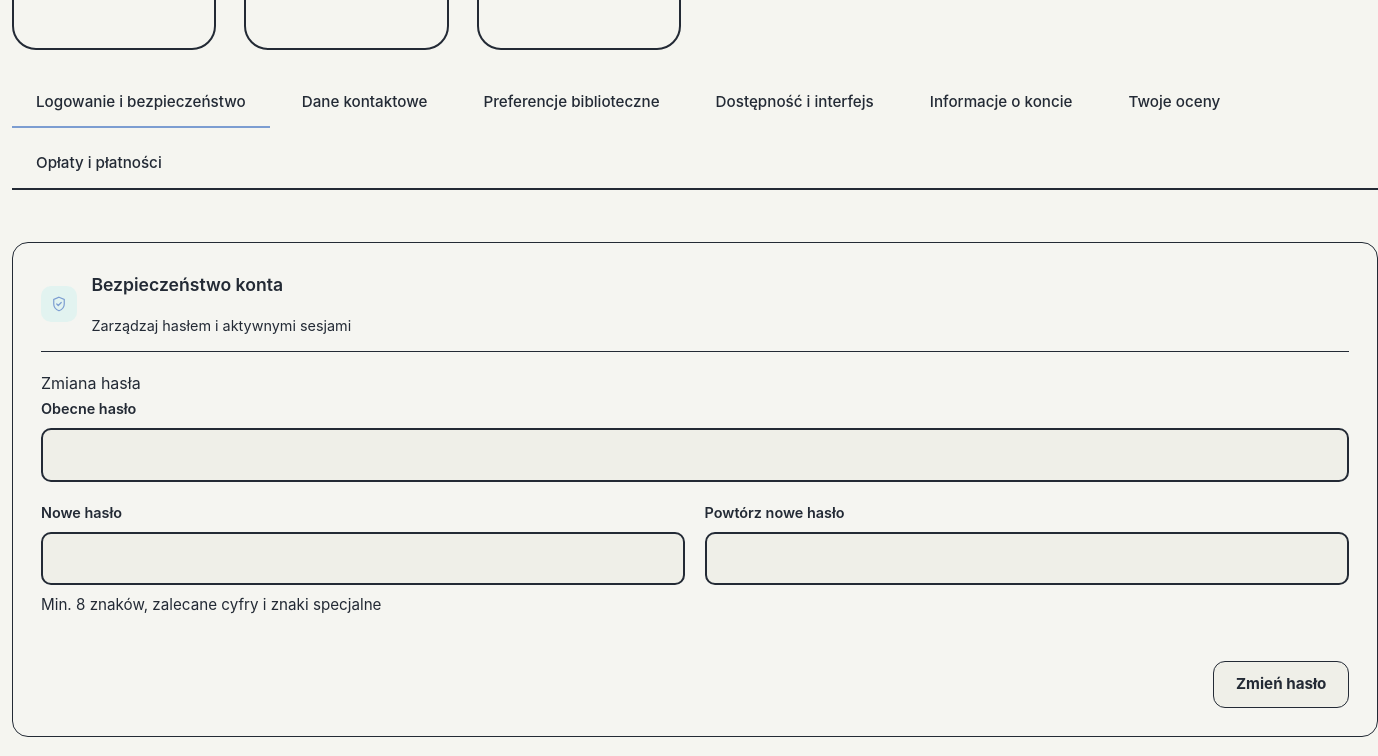
it: Profile page › shows password mismatch error
(page scrolled)
Type "oldpassword" into the password field labelled "Obecne hasło" at (695, 455), box 41,428 -> 1349,482
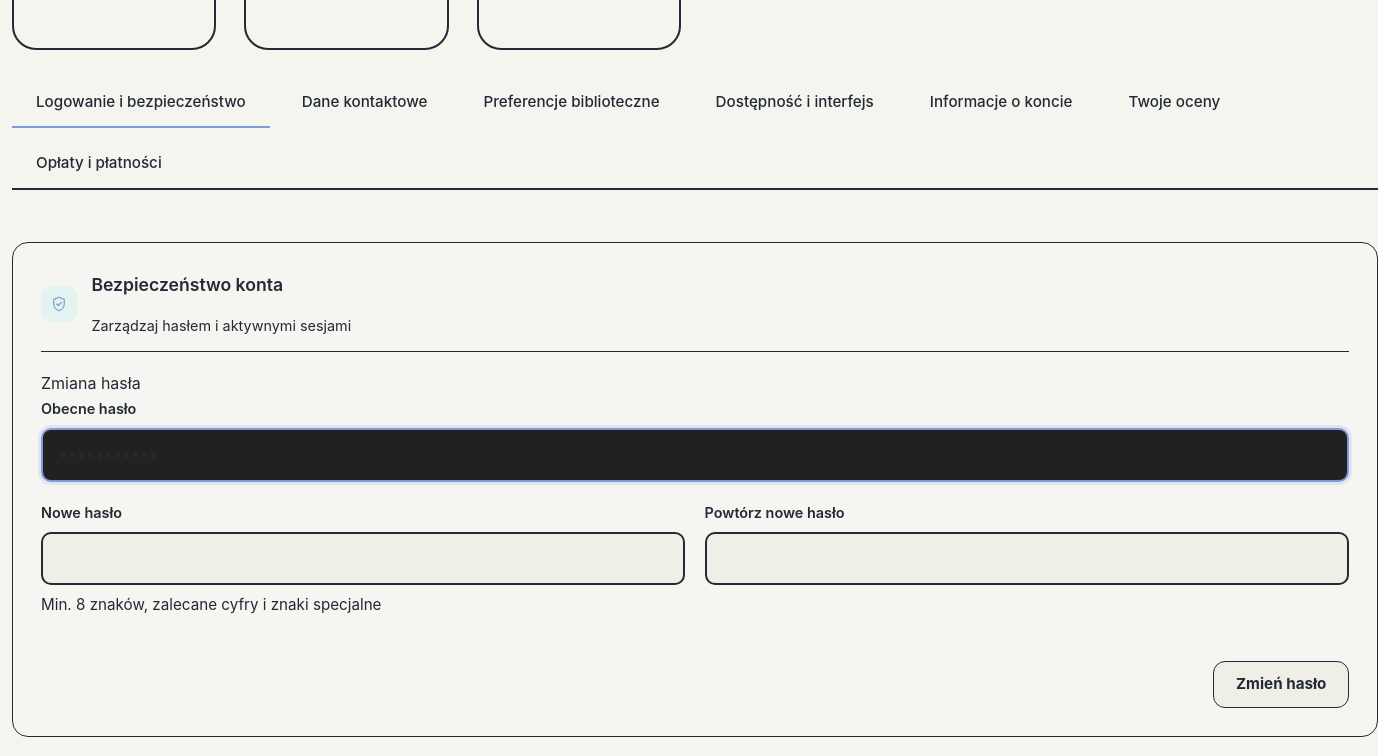
Type "password123" into the password field labelled "Nowe hasło" at (363, 559), box 41,532 -> 685,586
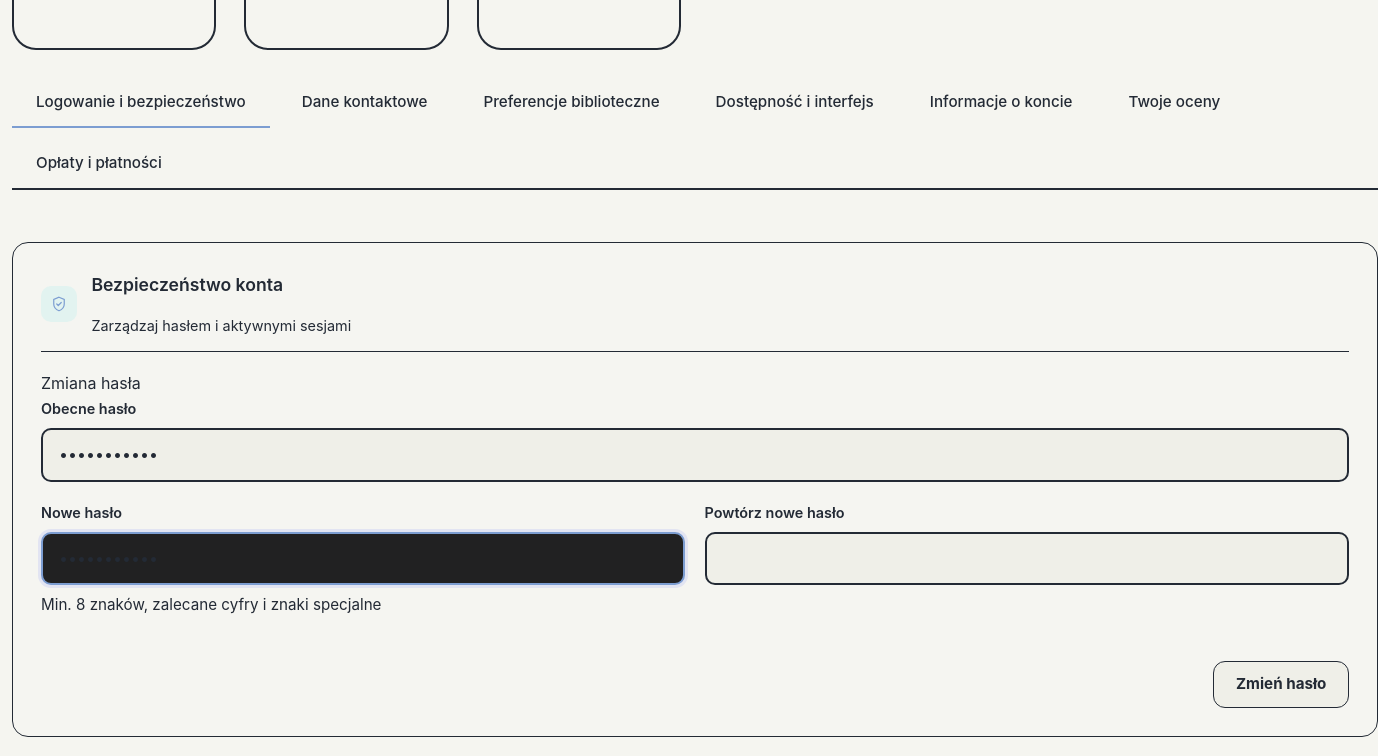
Type "password124" into the password field labelled "Powtórz nowe hasło" at (1027, 559), box 705,532 -> 1349,586
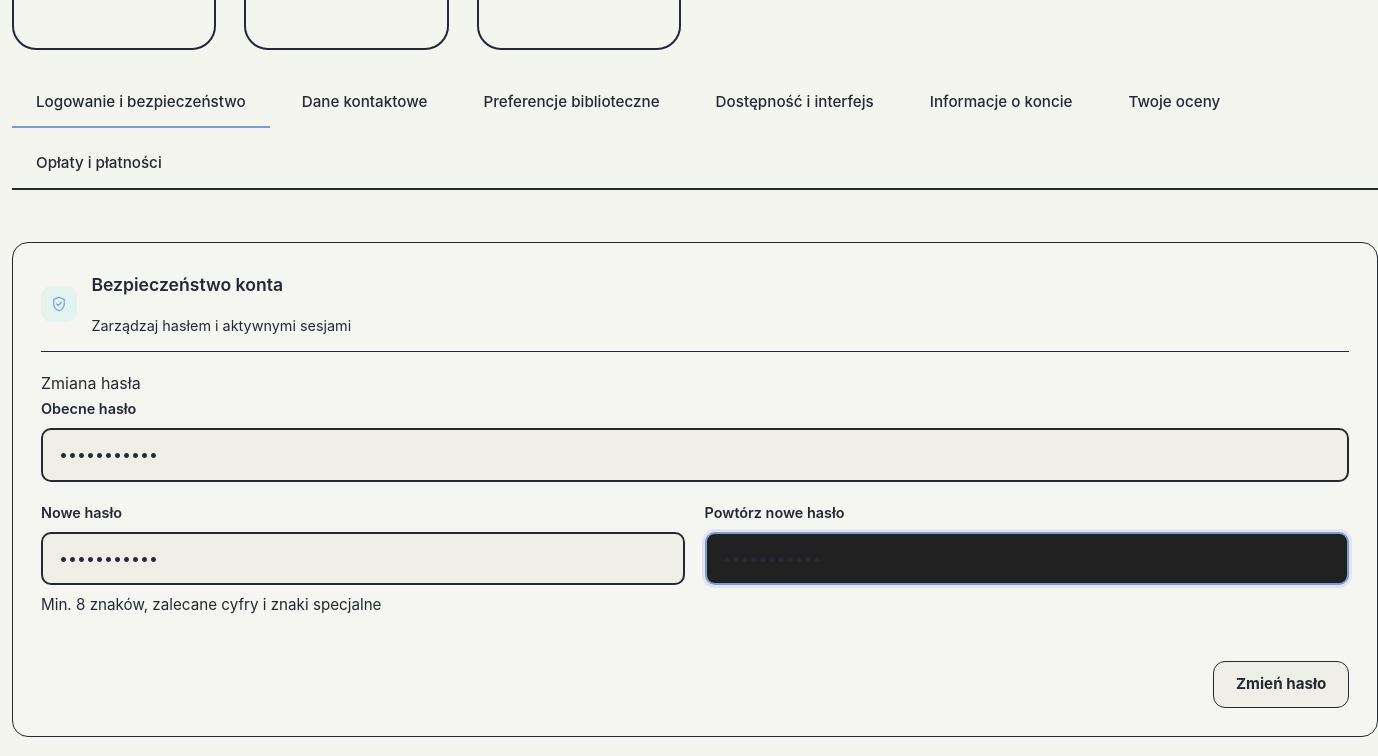
Click the button "Zmień hasło" at (1281, 685), box 1213,661 -> 1349,708
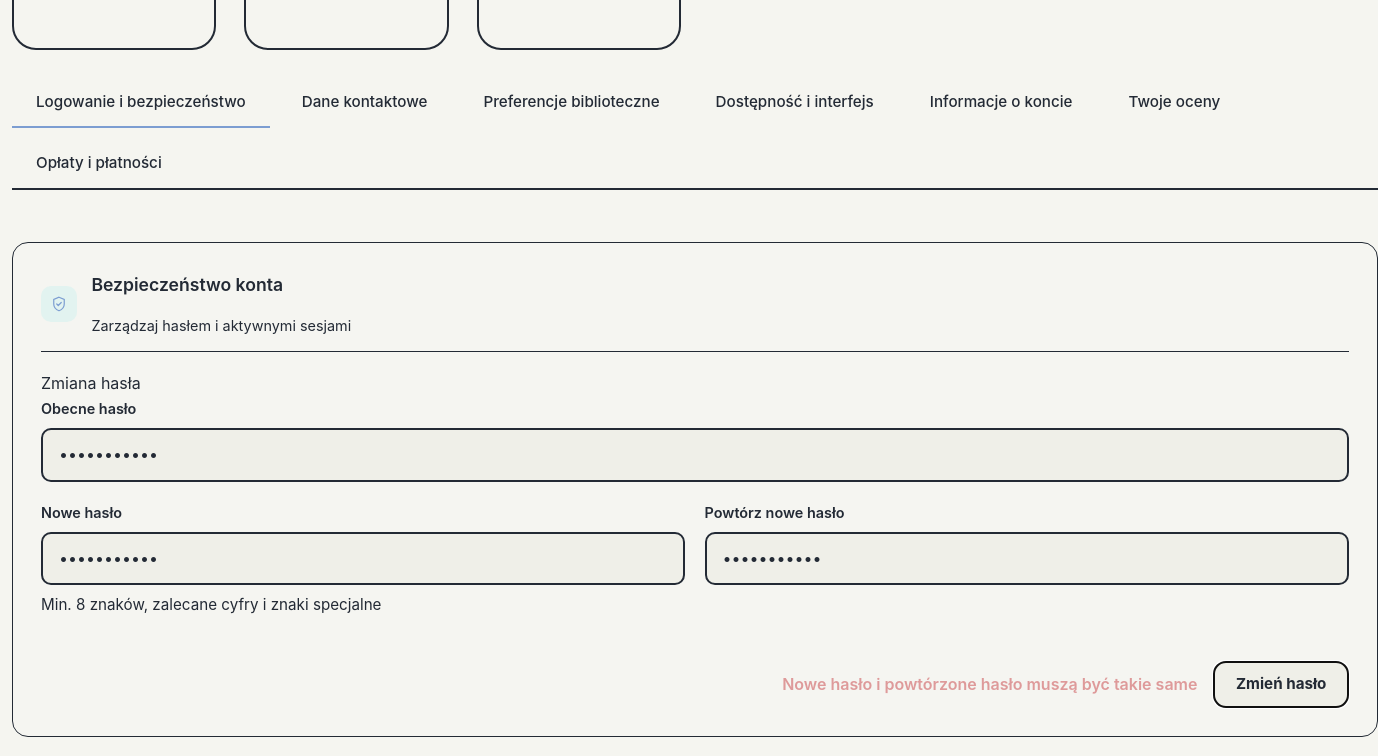
Expected: the text "Nowe hasło i powtórzone hasło muszą być takie same" is shown, 782,672 -> 1198,697
